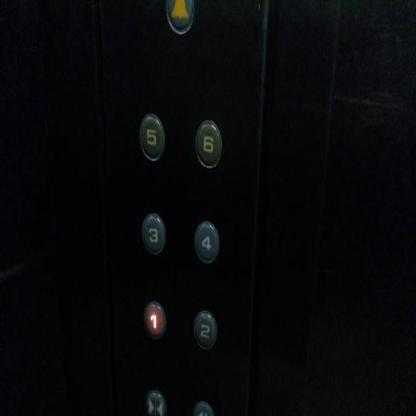1: (141, 296, 168, 340)
2: (192, 306, 218, 351)
3: (142, 210, 166, 254)
4: (194, 217, 220, 265)
5: (138, 111, 165, 161)
6: (194, 117, 222, 169)
close: (144, 387, 167, 415)
